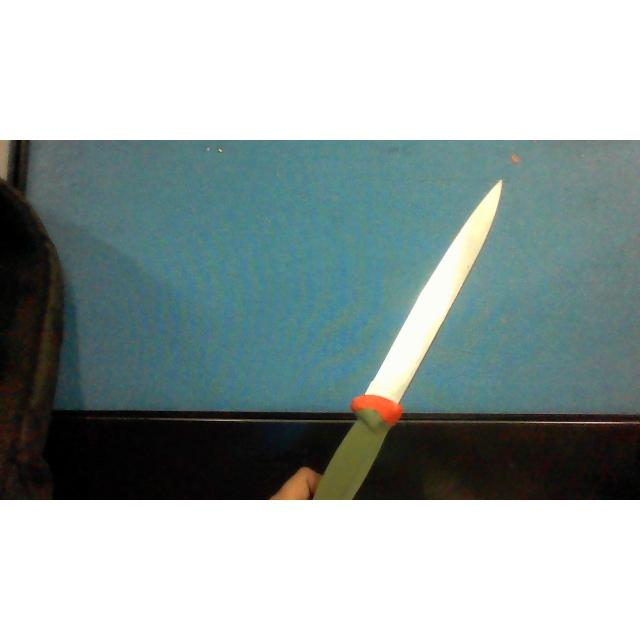Knife: (315, 180, 502, 500)
